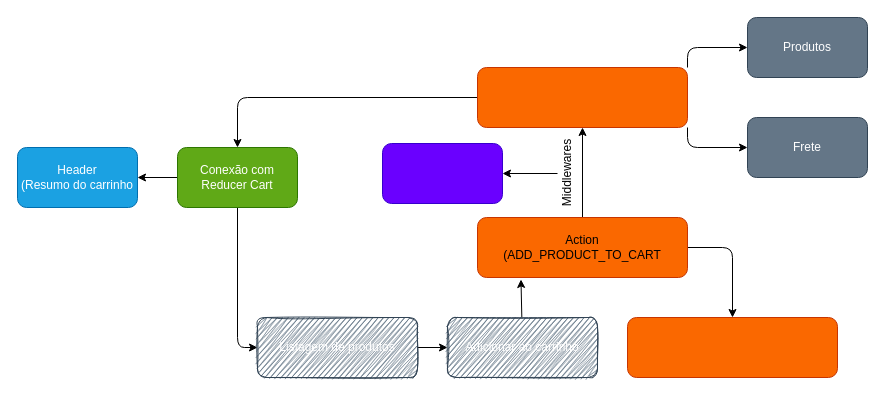
The diagram is 885 pixels wide and 395 high, and some of its shapes have lost their labels. Each missing label, with the centre of its shape:
"ID do produto sendo adicionado Quantidade sendo adicionada" goes at (732,347).
"Middleware Redux Saga" goes at (442,173).
"Reducer (Cart)" goes at (582,97).
